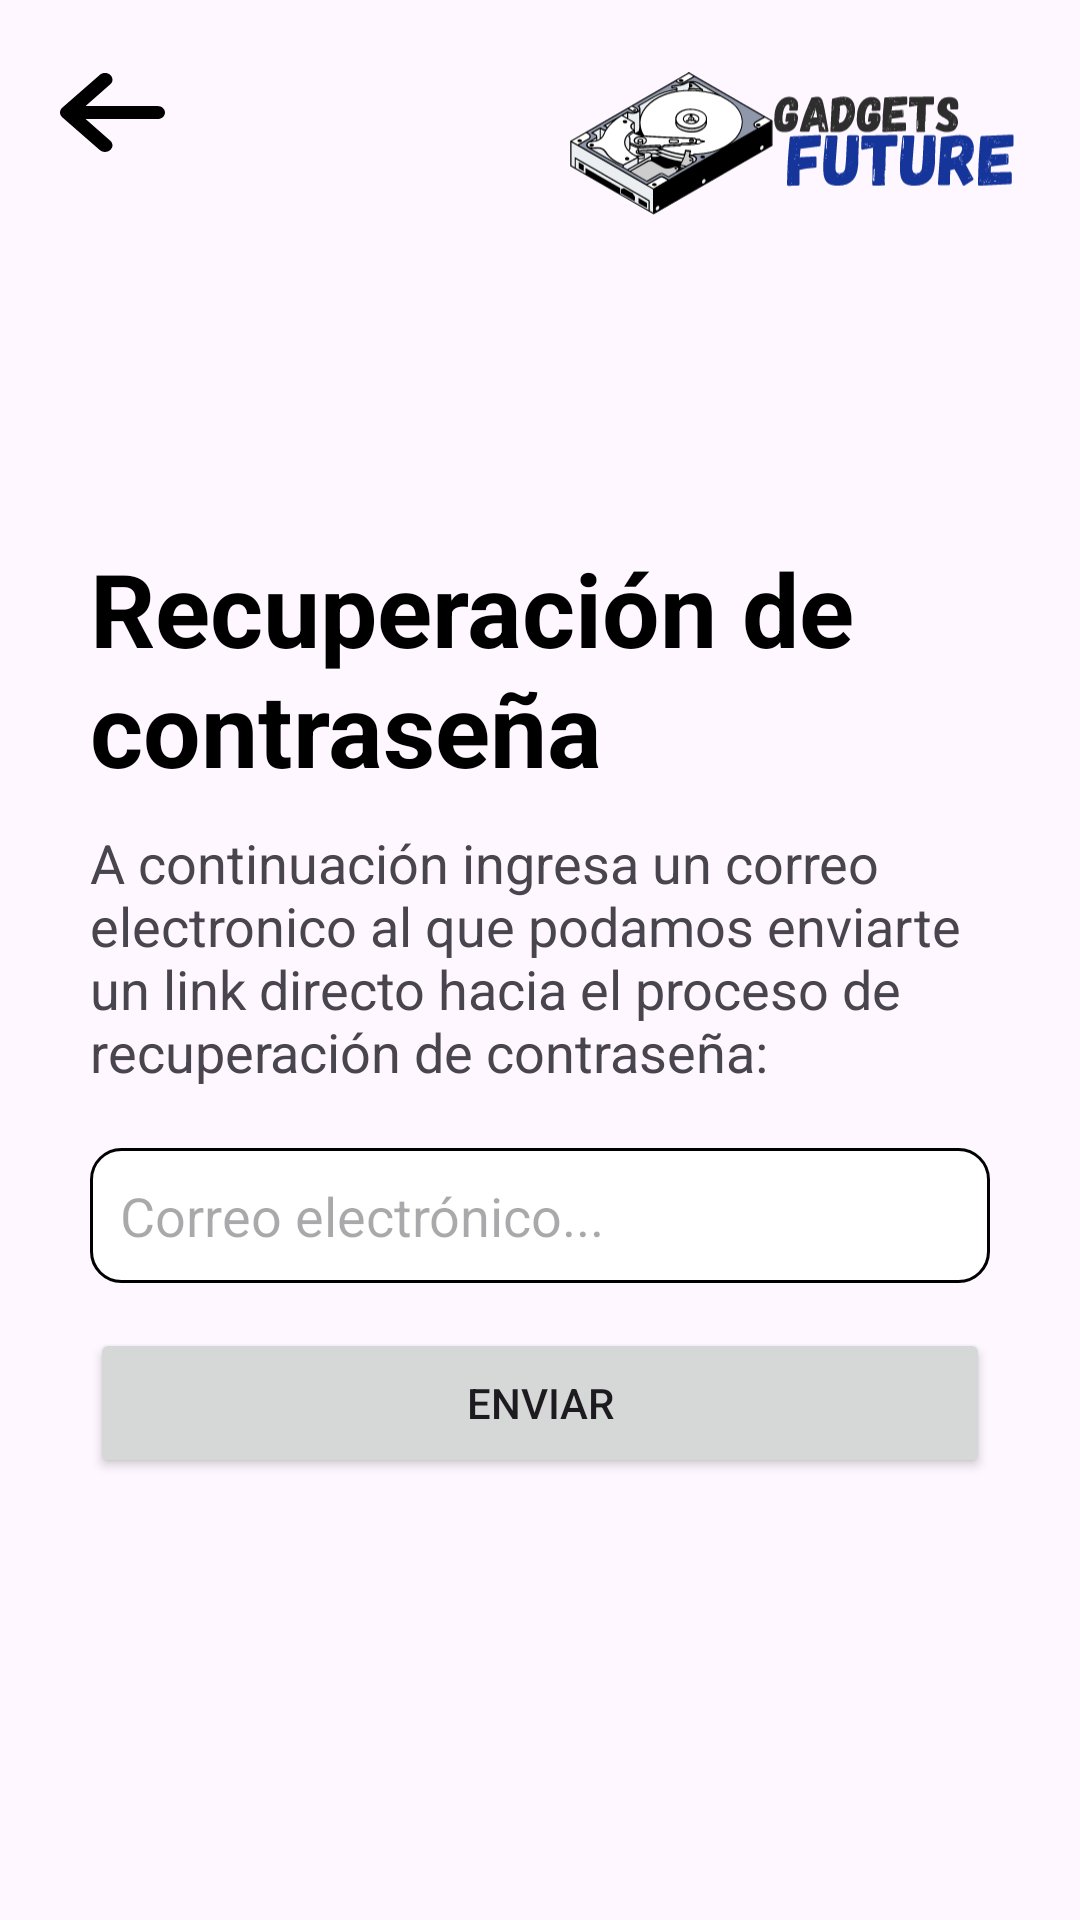

Icons on this 1080x1920 Android screen, each with the point to tap as (x=x, y=y):
arrow left: (x=112, y=112)
